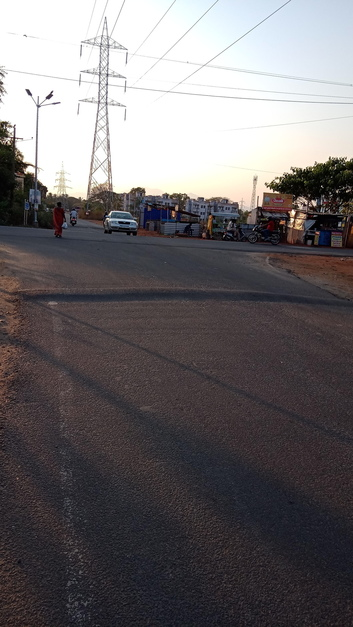bump: (17, 285, 353, 306)
